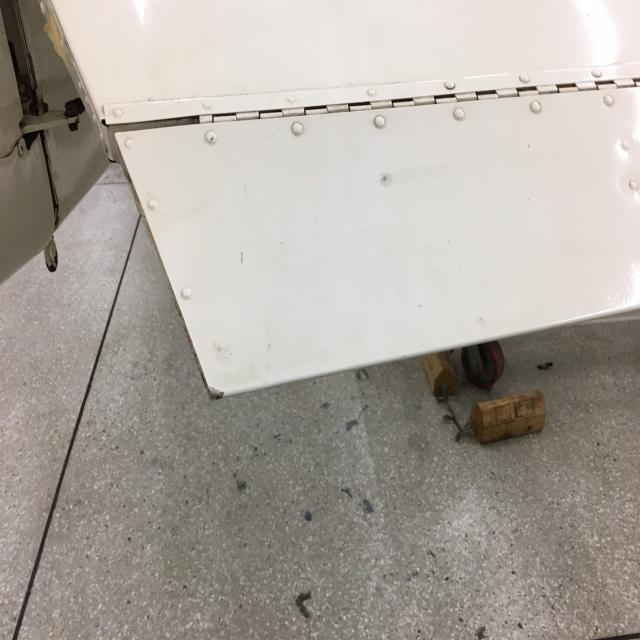Rupture: (203, 363, 232, 404), (374, 162, 396, 195), (237, 240, 248, 268)
